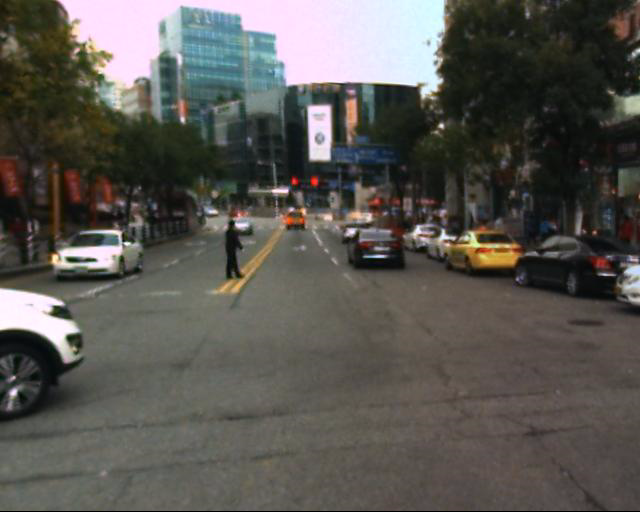person: (220, 213, 253, 286), (524, 210, 548, 255), (543, 207, 566, 249)
